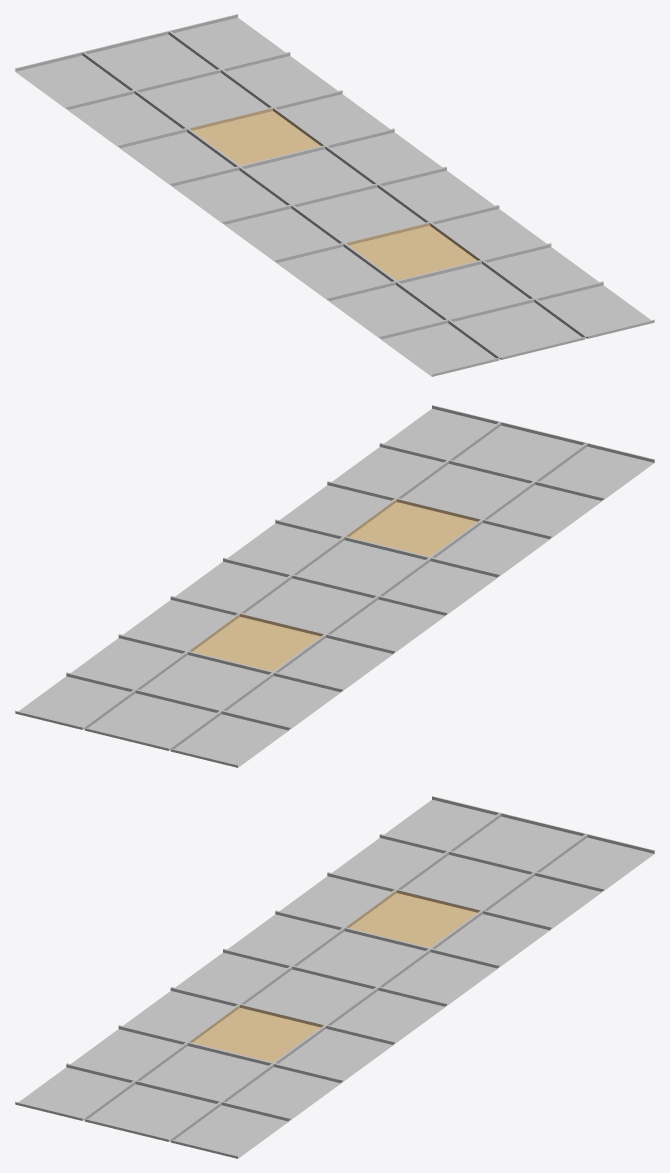
File: Ceiling_2.fbx
3 views of the same model, one above another, from view 1: azimuth 30°, elevation 25°; view 2: azimuth 150°, elevation 25°; view 3: azimuth 330°, elevation 25° (orthographic).
Parts seen in each view (by area): view 1: Ceiling 2; view 2: Ceiling 2; view 3: Ceiling 2.
Boxes of the visible parts, left/top/right/bottom form: Ceiling 2: left=14, top=14, right=655, bottom=376; Ceiling 2: left=14, top=405, right=655, bottom=767; Ceiling 2: left=14, top=796, right=655, bottom=1158.
Bounding box in the file's own units: 312 × 4 × 1008.
